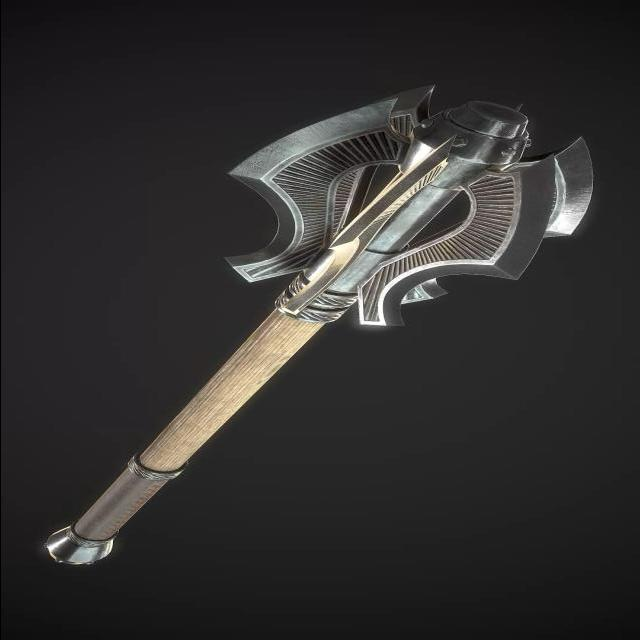mace: (40, 83, 597, 567)
